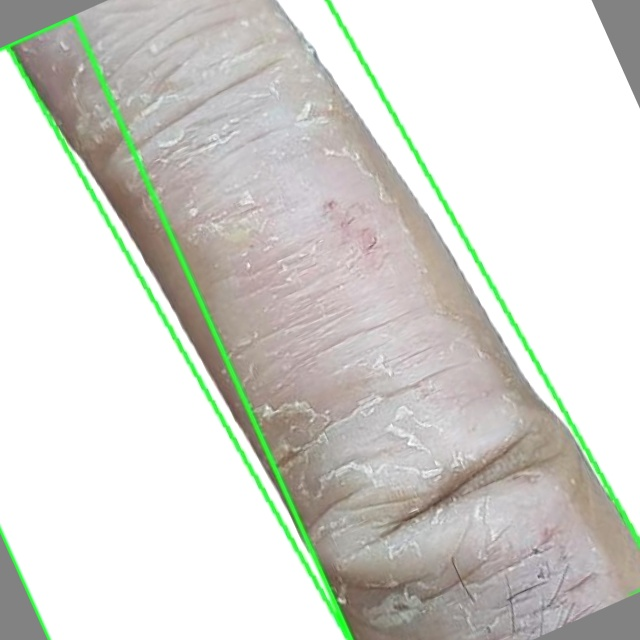Eczema: (7, 0, 639, 639), (0, 16, 351, 639)
